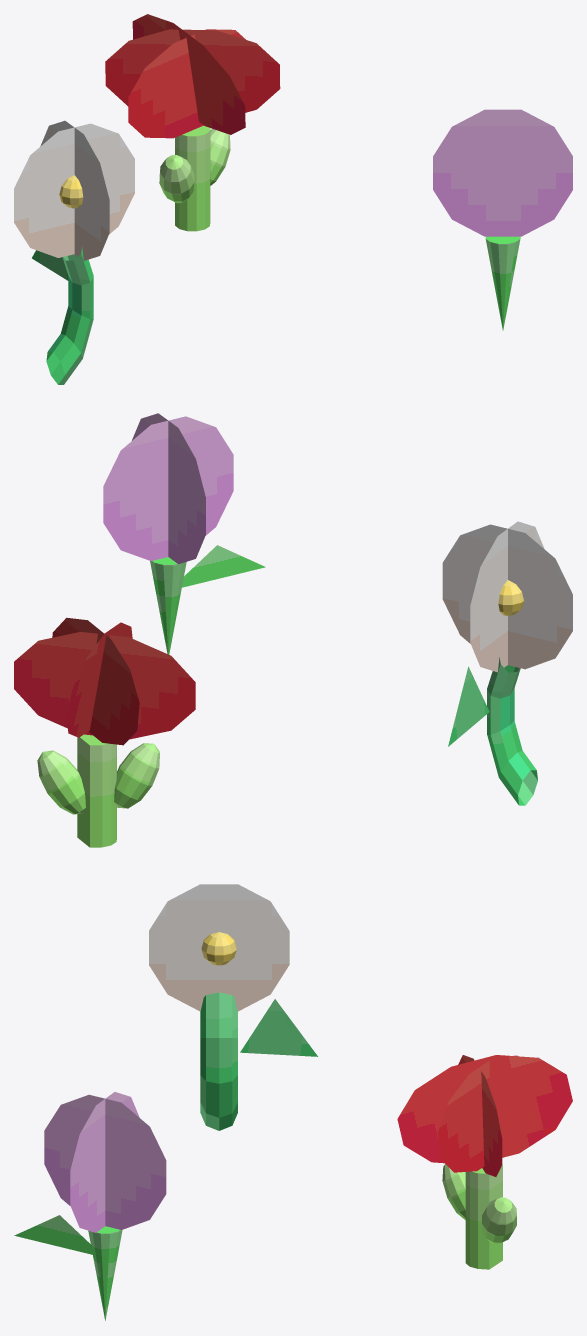
The model's file is Flowers.dae.
The picture shows the model from 3 angles, top to bottom: view 1: azimuth 30°, elevation 25°; view 2: azimuth 150°, elevation 25°; view 3: azimuth 270°, elevation 25°; orthographic projection. The views are drawn at different scales.
Parts seen in each view (by area): view 1: circle (×6), torus, cylinder, sphere (×3), cone, pyramid; view 2: circle (×7), sphere (×3), torus, cylinder, pyramid (×2), cone; view 3: circle (×6), torus, pyramid (×2), sphere (×3), cylinder, cone.
Part boxes in pixels (bbox=[...]): circle (×6): bbox=[14, 14, 572, 260]; torus: bbox=[46, 246, 93, 384]; cylinder: bbox=[175, 125, 210, 231]; sphere (×3): bbox=[59, 129, 230, 208]; cone: bbox=[485, 236, 520, 330]; pyramid: bbox=[32, 250, 68, 280]; circle (×7): bbox=[14, 413, 572, 745]; sphere (×3): bbox=[37, 580, 523, 814]; torus: bbox=[487, 657, 537, 805]; cylinder: bbox=[77, 734, 116, 847]; pyramid (×2): bbox=[182, 545, 489, 746]; cone: bbox=[150, 557, 186, 654]; circle (×6): bbox=[44, 884, 572, 1232]; torus: bbox=[200, 992, 237, 1130]; pyramid (×2): bbox=[14, 999, 317, 1254]; sphere (×3): bbox=[201, 932, 516, 1243]; cylinder: bbox=[465, 1164, 502, 1269]; cone: bbox=[88, 1226, 122, 1320].
Bounding box in the file's own units: 2 × 1 × 1.99.
